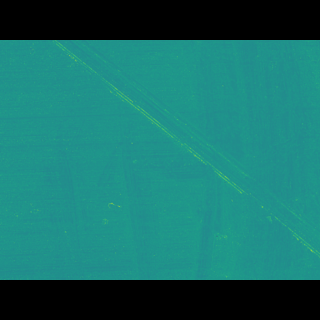Loch: (48, 69, 320, 232), (186, 69, 320, 251), (38, 155, 95, 250), (126, 113, 160, 252)
